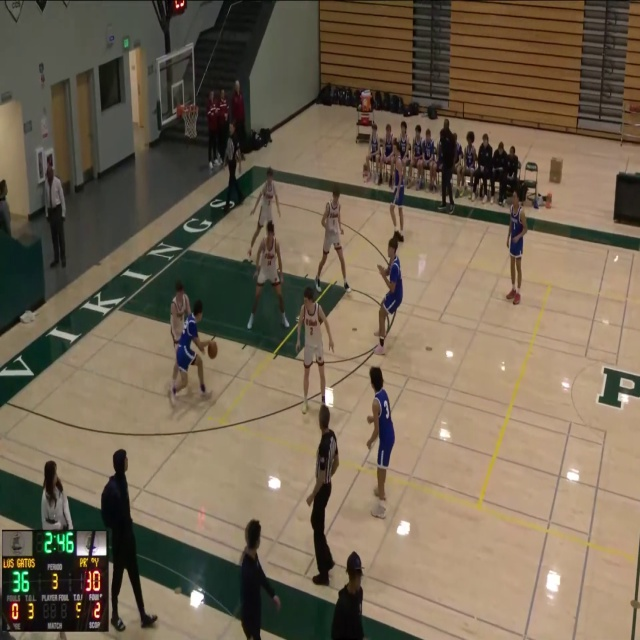Basketball: (207, 341, 218, 359)
